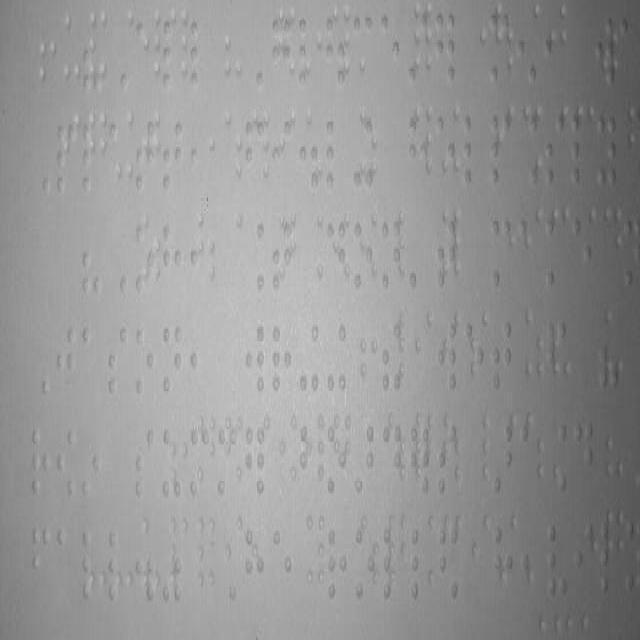braiile: (594, 111, 620, 196), (567, 112, 593, 194), (571, 518, 595, 602), (544, 112, 568, 194), (54, 321, 78, 403), (106, 324, 130, 406), (188, 18, 212, 98), (161, 118, 185, 198), (324, 116, 348, 196), (462, 111, 486, 191), (132, 322, 156, 402), (160, 322, 184, 402), (270, 322, 294, 402), (491, 316, 515, 396), (572, 420, 596, 500), (270, 524, 294, 604), (409, 524, 431, 609), (545, 215, 569, 292), (162, 217, 184, 299), (327, 521, 349, 603), (546, 519, 568, 601), (31, 426, 54, 504), (407, 115, 429, 196), (160, 21, 184, 95), (243, 323, 267, 397), (380, 9, 402, 89), (244, 118, 266, 198), (491, 214, 513, 294), (570, 216, 592, 296), (31, 524, 53, 604), (380, 423, 402, 501), (132, 429, 156, 500), (81, 322, 102, 402), (55, 522, 77, 598), (379, 218, 401, 292), (354, 522, 374, 602), (619, 13, 639, 89), (520, 426, 540, 498), (622, 220, 640, 291)
